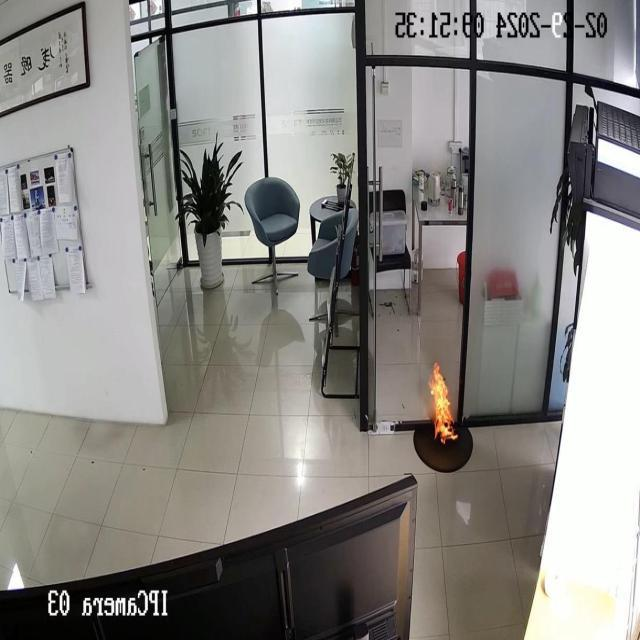smoke: (428, 366, 460, 447)
